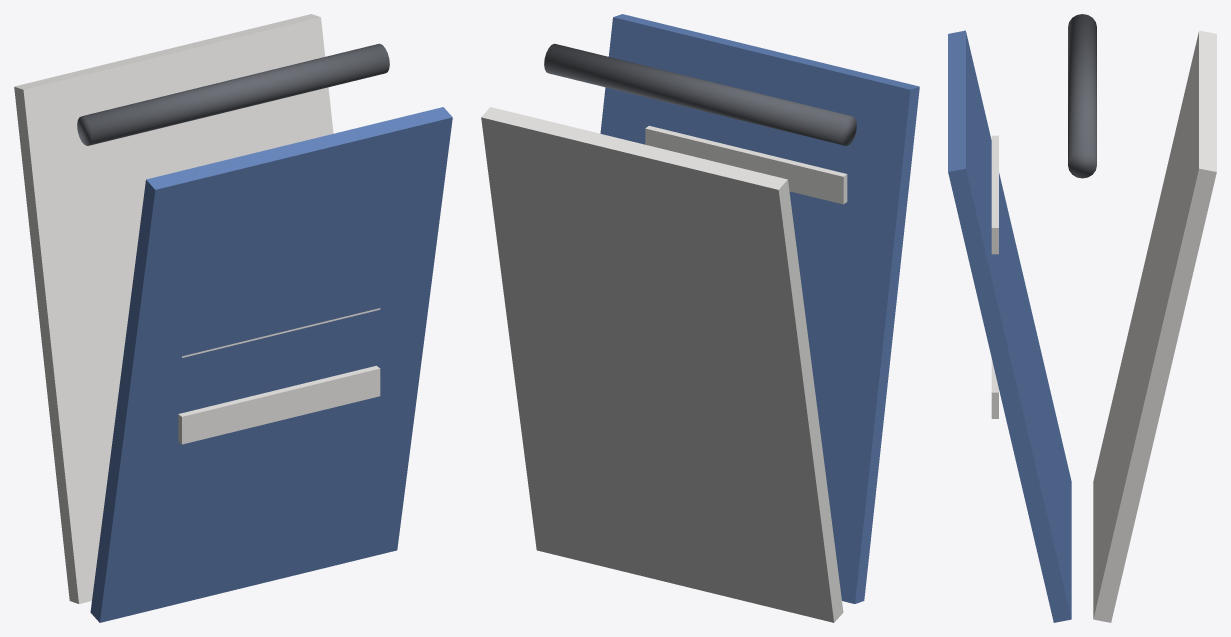
File: prop_tate_aframe_blue.glb
The picture shows the model from 3 angles, left to right: view 1: azimuth 30°, elevation 25°; view 2: azimuth 150°, elevation 25°; view 3: azimuth 270°, elevation 25°; orthographic projection. The views are drawn at different scales.
Visible parts, largest first — view 1: tate_aframe_blue; view 2: tate_aframe_blue; view 3: tate_aframe_blue.
Boxes of the visible parts, left/top/right/bottom form: tate_aframe_blue: left=14, top=14, right=452, bottom=622; tate_aframe_blue: left=481, top=14, right=919, bottom=622; tate_aframe_blue: left=948, top=14, right=1216, bottom=622.
Size of the model in its own units: 0.9 by 1.43 by 0.74.
